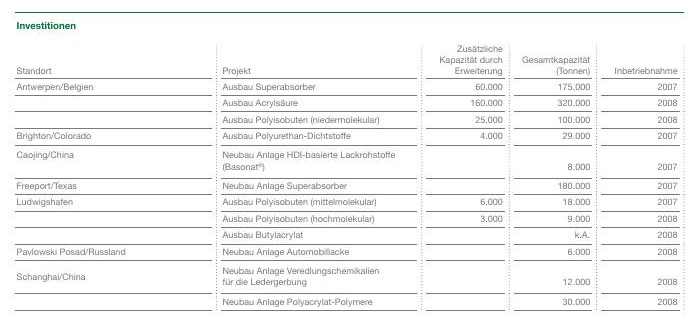table: (0, 0, 699, 320)
